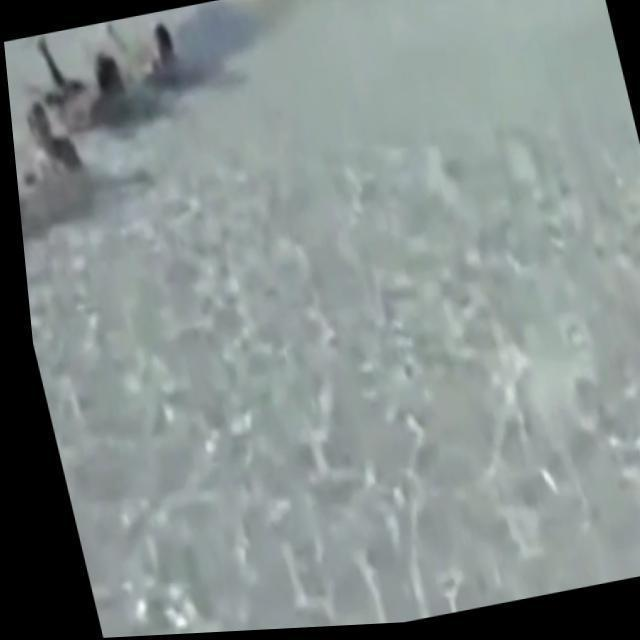swimming: (26, 36, 231, 125)
